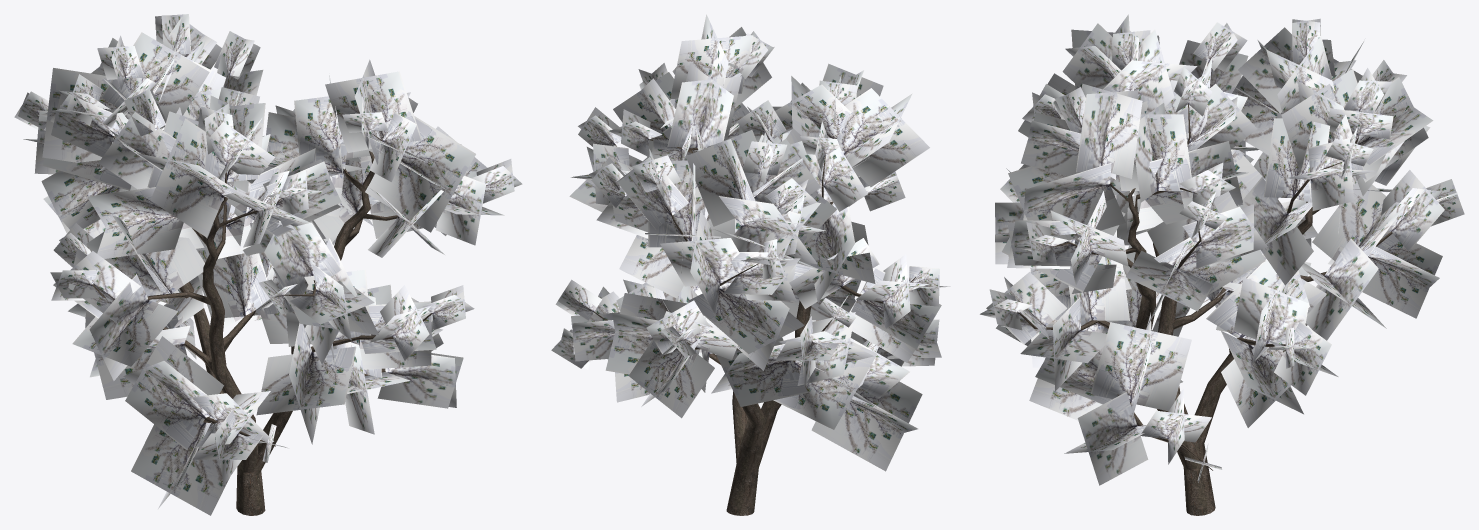
File: TreeWaxCherry-white3.fbx
3 renders of one model, left to right at view 1: azimuth 30°, elevation 25°; view 2: azimuth 150°, elevation 25°; view 3: azimuth 270°, elevation 25°, orthographic. The views are drawn at different scales.
Parts seen in each view (by area): view 1: TreeWaxCherry-white3_LOD0; view 2: TreeWaxCherry-white3_LOD0; view 3: TreeWaxCherry-white3_LOD0.
Boxes of the visible parts, bbox=[...] form: TreeWaxCherry-white3_LOD0: bbox=[14, 14, 522, 515]; TreeWaxCherry-white3_LOD0: bbox=[551, 14, 950, 515]; TreeWaxCherry-white3_LOD0: bbox=[980, 14, 1464, 515].
Size of what is drawn, in the model's own units: 619 by 685 by 652.
